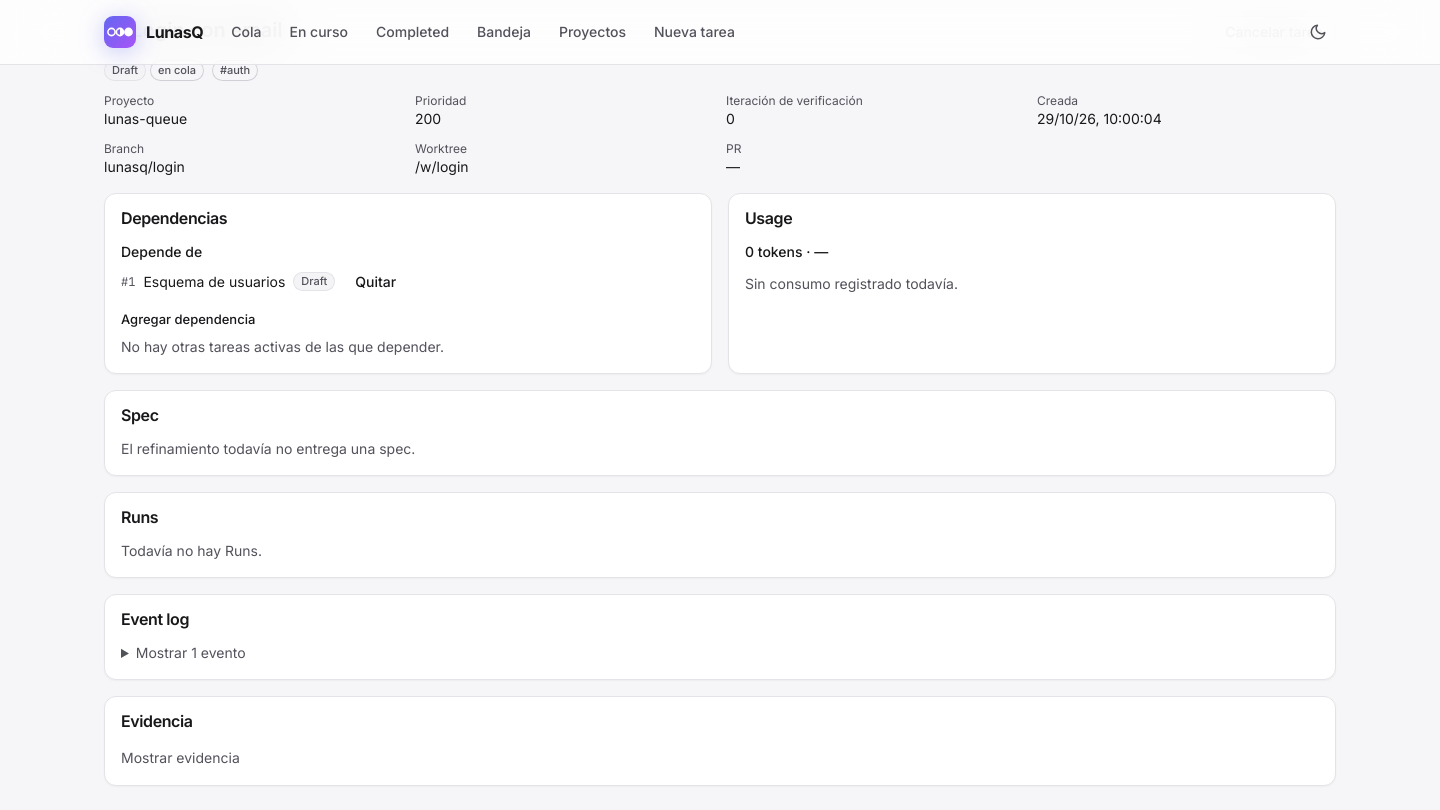
detalle de tarea › expandir el panel Evidencia muestra origen, ruta y markdown
(page scrolled)
Click the button "Mostrar evidencia": (180, 758) [121,748,240,768]
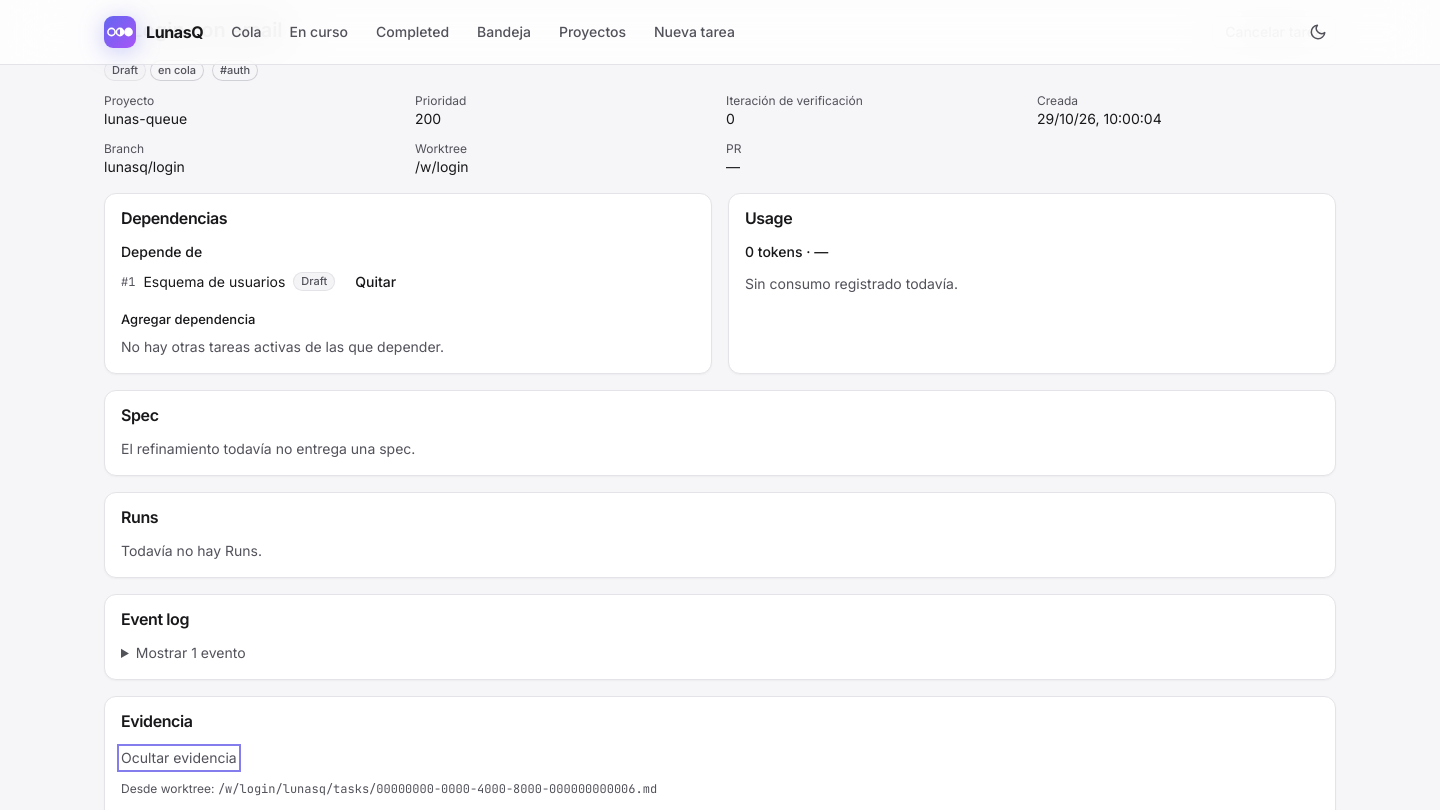
Check: the text "Desde worktree" is shown, box [121,781,218,796]
